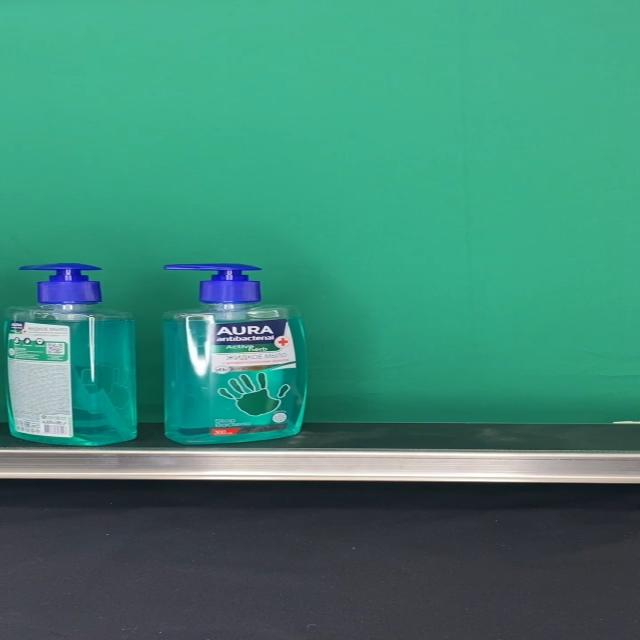Bottle: (162, 264, 308, 445), (2, 262, 138, 446)
Cap: (170, 264, 266, 306), (19, 262, 103, 304)
